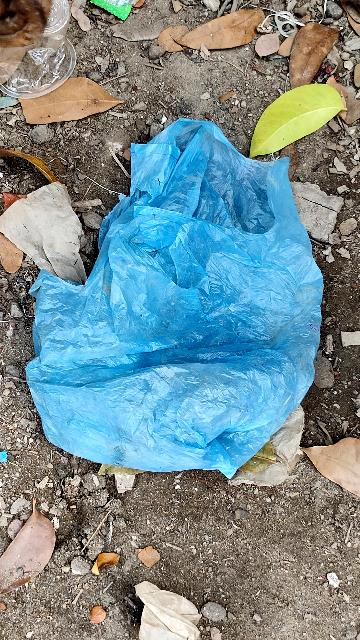polythene: (25, 122, 342, 506)
